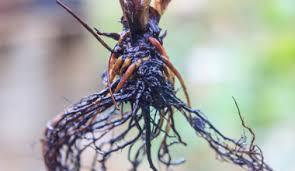root_rot: (53, 4, 271, 171)
